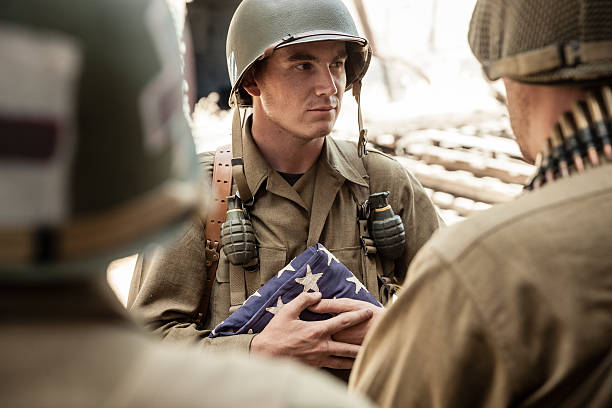e1: (359, 192, 408, 253), (221, 194, 258, 265)
